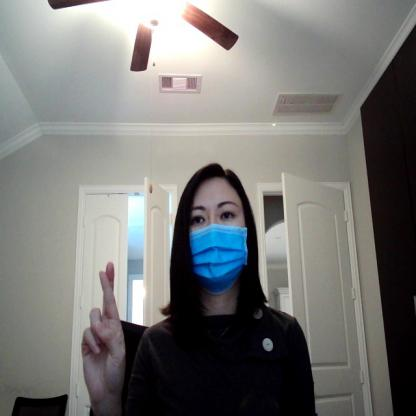right: (81, 258, 134, 411)
